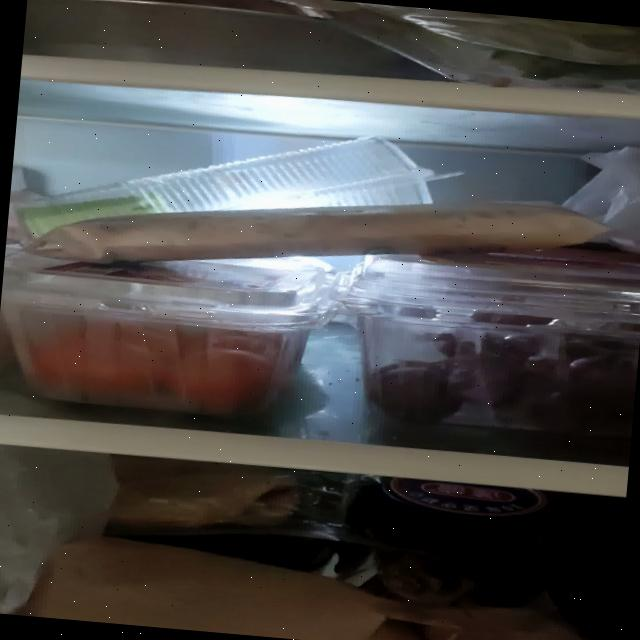grape: (361, 302, 640, 441)
tempeh: (26, 156, 609, 308)
